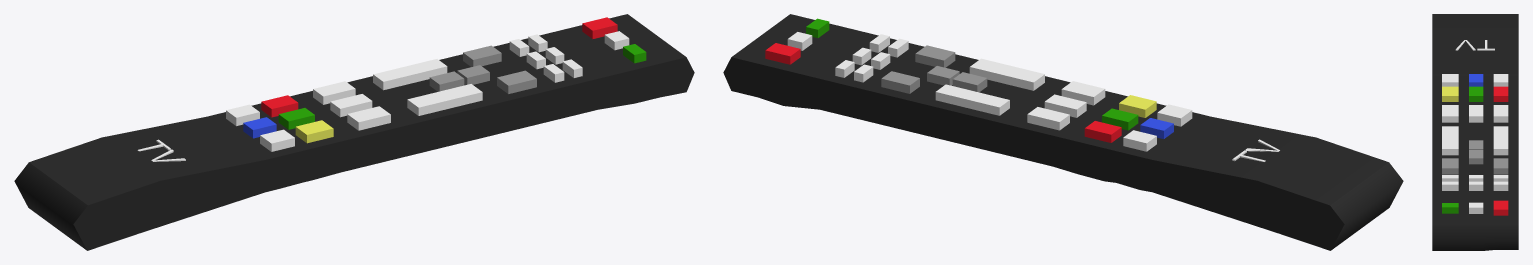
3 renders of one model, left to right at view 1: azimuth 30°, elevation 25°; view 2: azimuth 150°, elevation 25°; view 3: azimuth 270°, elevation 25°, orthographic. The views are drawn at different scales.
Visible parts, largest first — view 1: Box001; view 2: Box001; view 3: Box001, Text001.
Part boxes in pixels (x1,y1,x2,y2): Box001: (14, 14, 694, 250); Box001: (723, 14, 1403, 250); Box001: (1432, 14, 1518, 250); Text001: (1455, 40, 1494, 50).
Bounding box in the file's own units: 101 × 8.71 × 16.63.
